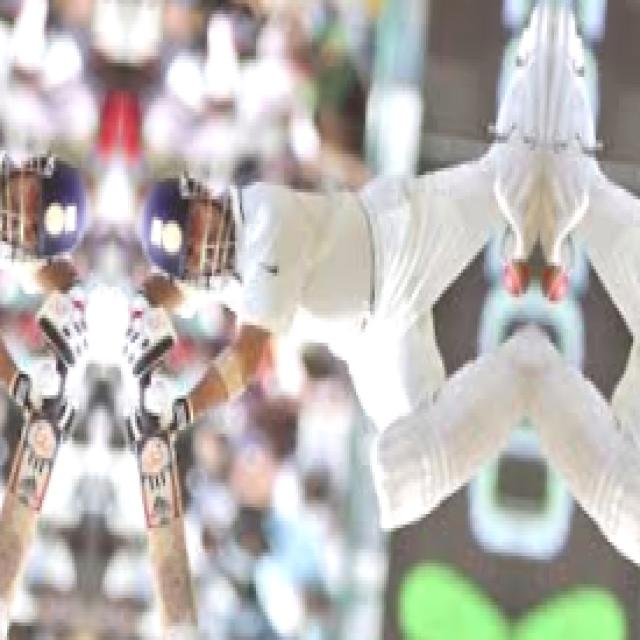toe: (160, 609, 198, 640)
